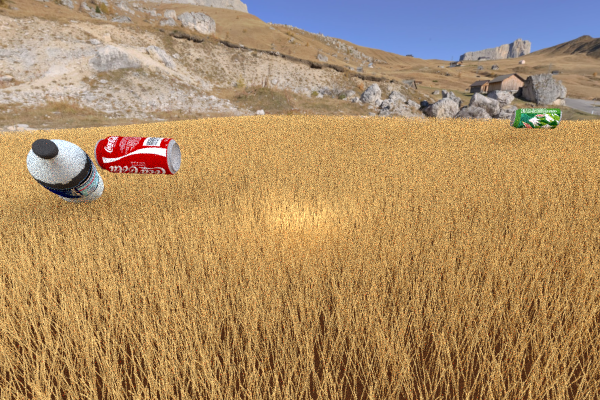Plastic Bottle: (26, 138, 103, 204), (94, 135, 180, 174), (510, 108, 561, 128)
